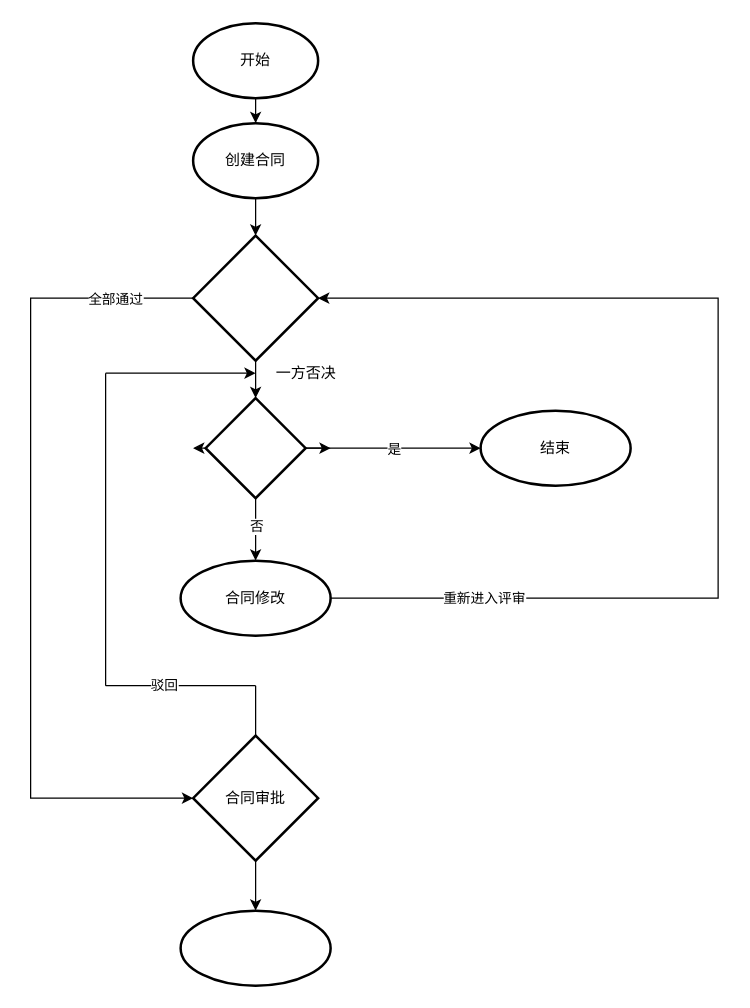
Some shapes in this 750 by 1008 pixel diagram are drawn without their labels. The shapes that lost their labels are listed below. From the top down, each one's centre as x and y in pixels, then its label:
the point at 255,297: 合同在线评审
the point at 255,447: 是否删除合同
the point at 255,947: 生成合同
